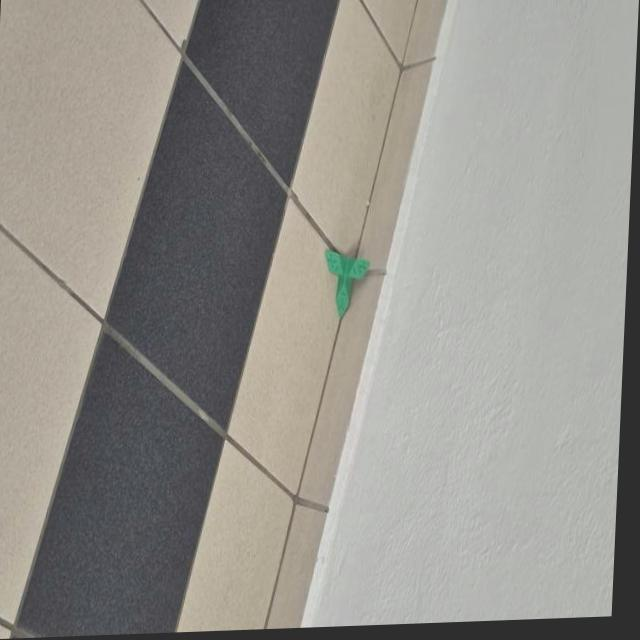eje: (320, 246, 371, 320)
